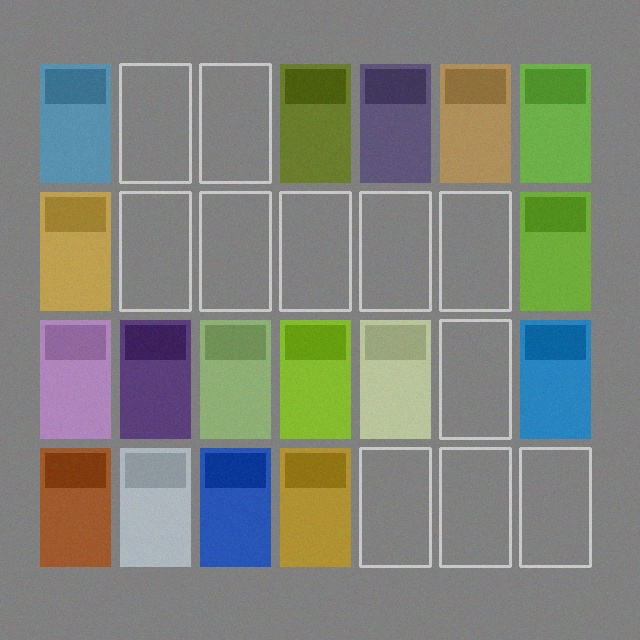space-empty: (120, 64, 190, 182), (200, 64, 270, 182), (120, 192, 190, 310), (200, 192, 270, 310), (280, 192, 350, 310), (360, 192, 430, 310), (440, 192, 510, 310), (440, 320, 510, 438), (360, 448, 430, 566), (440, 448, 510, 566), (520, 448, 590, 566)
space-occupied: (40, 64, 110, 182), (280, 64, 350, 182), (360, 64, 430, 182), (440, 64, 510, 182), (520, 64, 590, 182), (40, 192, 110, 310), (520, 192, 590, 310), (40, 320, 110, 438), (120, 320, 190, 438), (200, 320, 270, 438), (280, 320, 350, 438), (360, 320, 430, 438), (520, 320, 590, 438), (40, 448, 110, 566), (120, 448, 190, 566), (200, 448, 270, 566), (280, 448, 350, 566)
